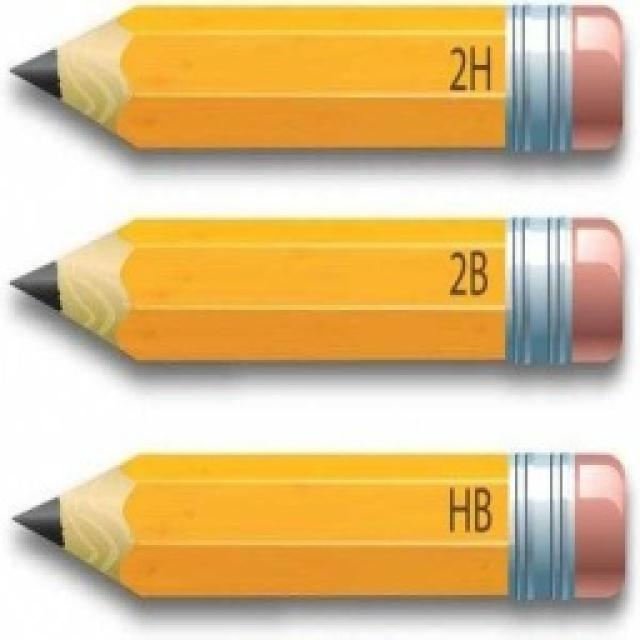pencil: (7, 212, 625, 370), (7, 0, 625, 158)
